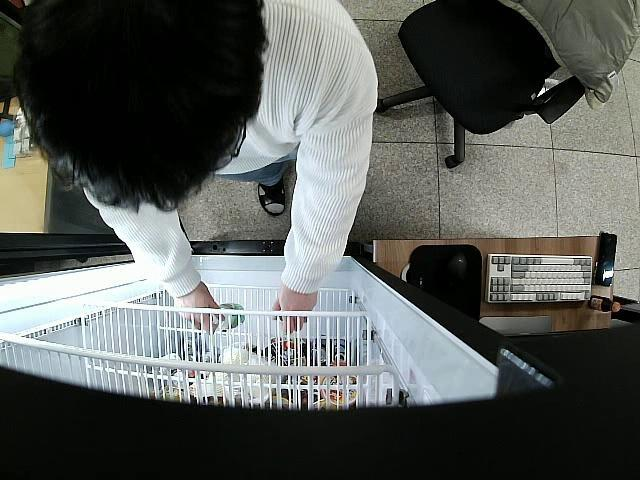18_trevi: (208, 302, 246, 330)
